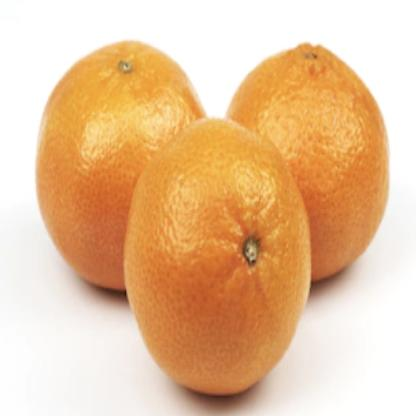fresh: (39, 38, 389, 399)
